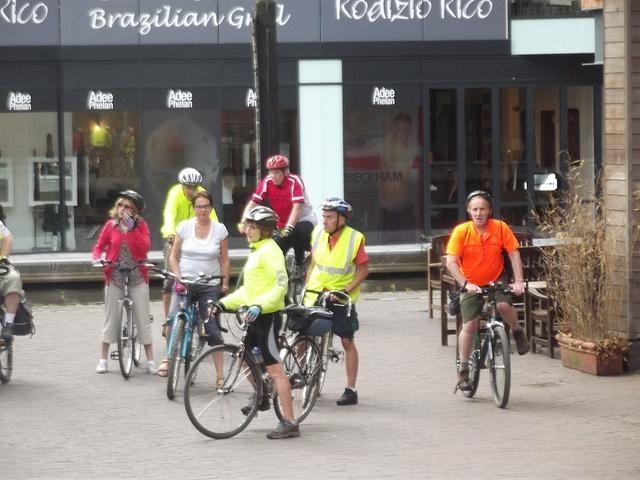bicycle: (184, 305, 264, 443), (148, 266, 226, 401), (98, 258, 158, 381), (460, 282, 512, 409), (284, 290, 345, 398), (278, 306, 334, 423), (234, 256, 314, 306), (0, 318, 13, 381)
